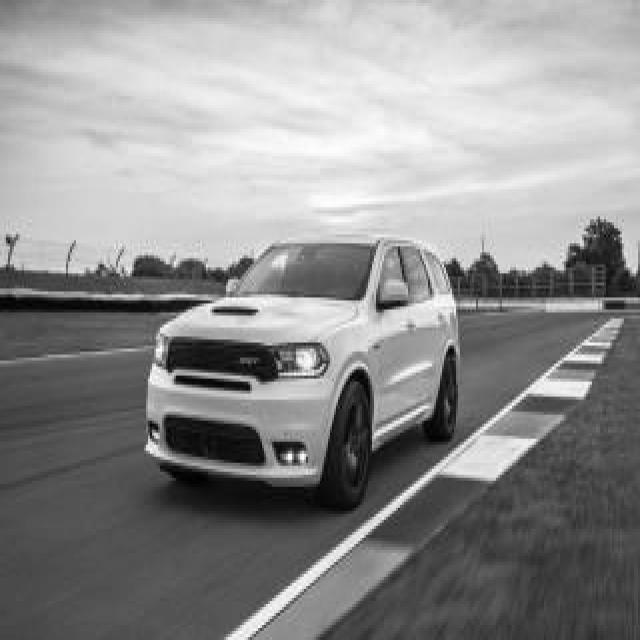Car: (145, 237, 459, 508)
